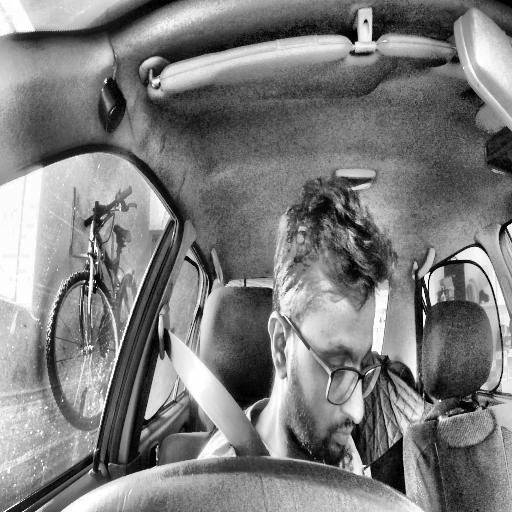awake: (265, 176, 396, 482)
